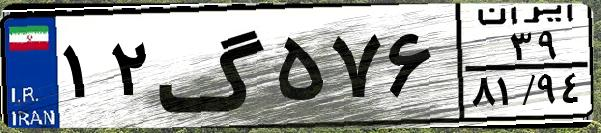1: (57, 26, 110, 100), (495, 70, 520, 125)
2: (110, 28, 156, 98)
3: (508, 27, 537, 80)
4: (560, 70, 590, 125)
5: (270, 28, 330, 110)
6: (385, 28, 445, 110)
7: (330, 28, 385, 110)
8: (470, 70, 495, 125)
9: (537, 27, 568, 80), (535, 70, 560, 125)
گ: (156, 12, 270, 120)
